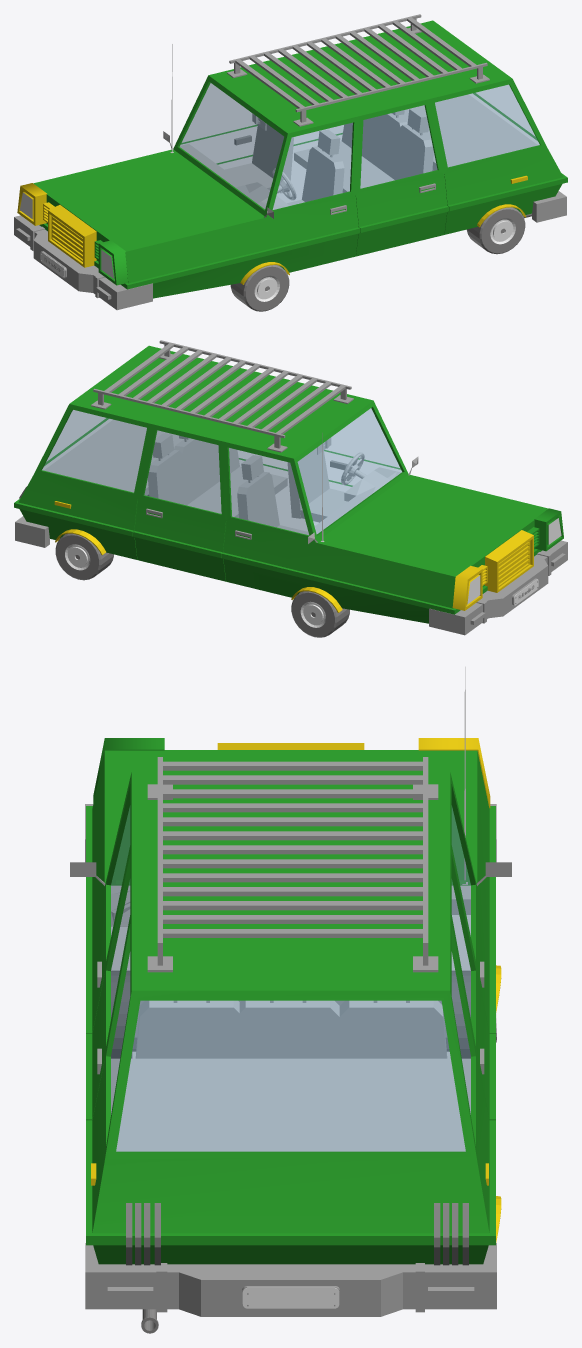
The model's file is Instacart_Project_car_Green.gltf.
3 views of the same model, one above another, from view 1: azimuth 30°, elevation 25°; view 2: azimuth 150°, elevation 25°; view 3: azimuth 270°, elevation 25° (orthographic). The views are drawn at different scales.
Parts seen in each view (by area): view 1: body-Green, body-Glass, hood, back (×2), front, seat01, ventilation, seat03, seat04, seat02, TIRE01-Black, TIRE03-Black (+7 smaller); view 2: body-Green, body-Glass, hood, back (×2), front, seat01, ventilation, seat02, seat05, seat04, TIRE02-Black, TIRE04-Black (+7 smaller); view 3: body-Green, body-Glass, back (×2), hood, seat03, seat05, seat04, car, number plate white, TIRE01-Black, TIRE02-Black, ventilation (+4 smaller).
Part boxes in pixels (box(x1,y1,x2,y2)): body-Green: box(33, 20, 567, 298); body-Glass: box(180, 83, 539, 209); hood: box(227, 14, 489, 126); back (×2): box(400, 94, 566, 222); front: box(14, 215, 152, 310); seat01: box(287, 130, 344, 205); ventilation: box(43, 202, 102, 267); seat03: box(344, 108, 433, 192); seat04: box(342, 110, 407, 192); seat02: box(225, 124, 293, 193); TIRE01-Black: box(230, 265, 289, 311); TIRE03-Black: box(467, 207, 525, 254); body-Green: box(14, 345, 548, 623); body-Glass: box(42, 408, 401, 534); hood: box(91, 340, 353, 452); back (×2): box(15, 419, 183, 547); front: box(429, 540, 567, 635); seat01: box(287, 448, 347, 522); ventilation: box(478, 527, 539, 592); seat02: box(237, 455, 306, 533); seat05: box(148, 433, 237, 517); seat04: box(174, 435, 238, 517); TIRE02-Black: box(291, 591, 349, 637); TIRE04-Black: box(55, 533, 113, 580); body-Green: box(86, 750, 495, 1264); body-Glass: box(111, 806, 470, 1151); back (×2): box(85, 1058, 496, 1316); hood: box(147, 757, 438, 972); seat03: box(132, 1000, 246, 1058); seat05: box(337, 1000, 450, 1058); seat04: box(233, 1000, 342, 1058); car: box(126, 1203, 468, 1265); number plate white: box(242, 1287, 339, 1308); TIRE01-Black: box(111, 970, 137, 1058); TIRE02-Black: box(445, 970, 470, 1058); ventilation: box(217, 743, 364, 749).
Bounding box in the file's own units: 87.67 × 35.4 × 35.5.
